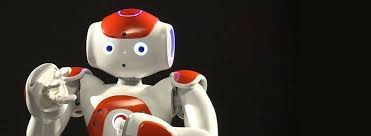nao: (22, 7, 223, 136)
